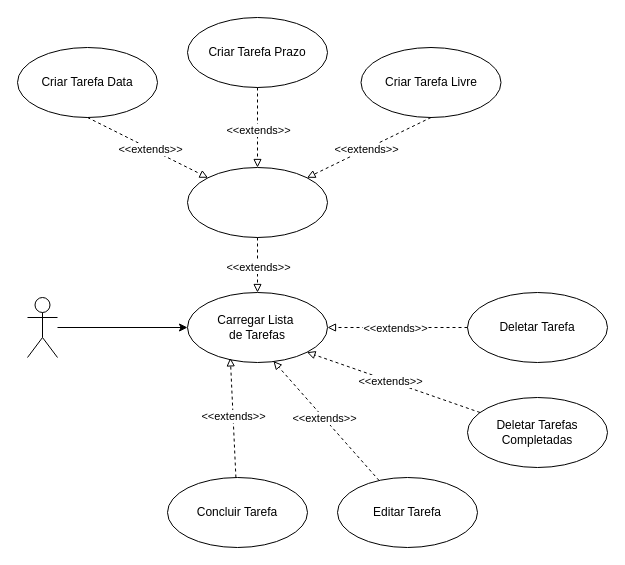
Image size: 625x565. Some labels were removed from this diagram. The box of each missing label's shape, as (x1, y1, x2, y2) in pixels:
Criar Tarefa: (186, 166, 328, 238)
Usuário: (26, 296, 58, 358)
